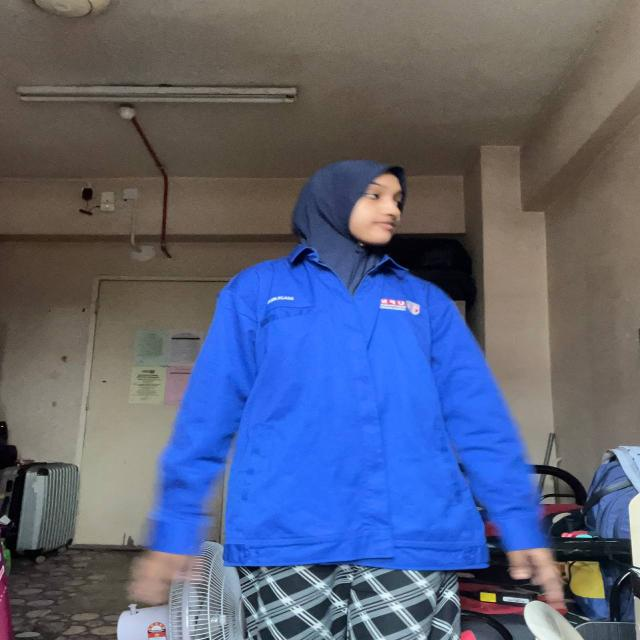person_with_labcoat: (130, 160, 563, 640)
